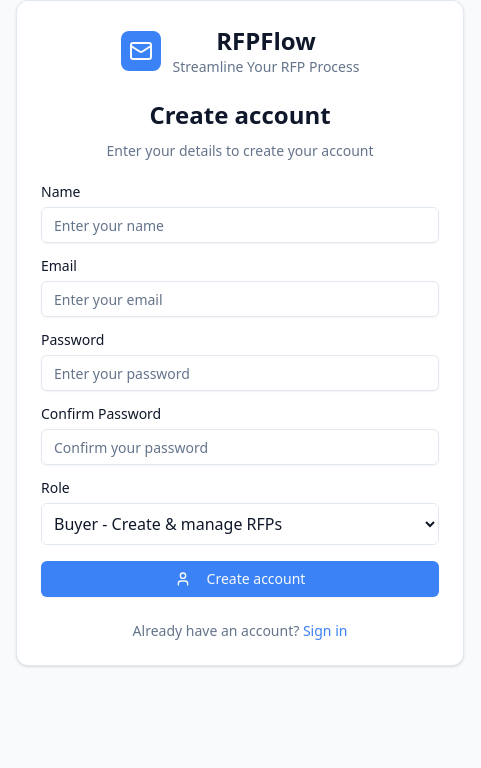
Test case: RegisterForm › should show validation error for empty name field
What coordinates should you click on to do the following:
click the button "Create account"
I would click on:
 (240, 579)
Its box is [41,561,439,597].
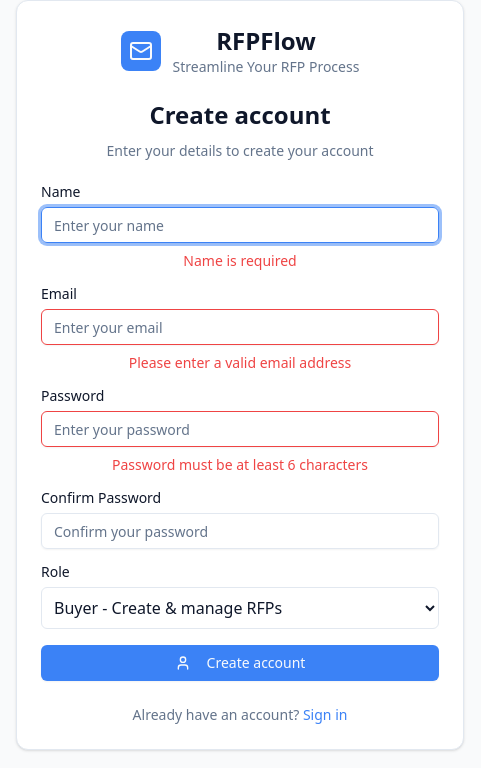
Expected: the text "Name is required" is shown, [183,251,297,270]
